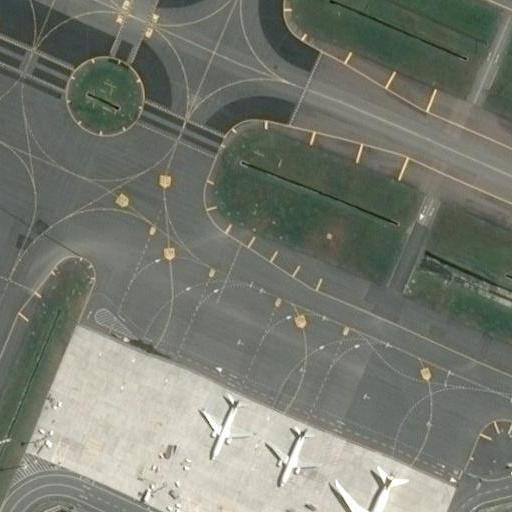Aircraft: (330, 457, 429, 512), (196, 388, 247, 462), (265, 418, 313, 488)
